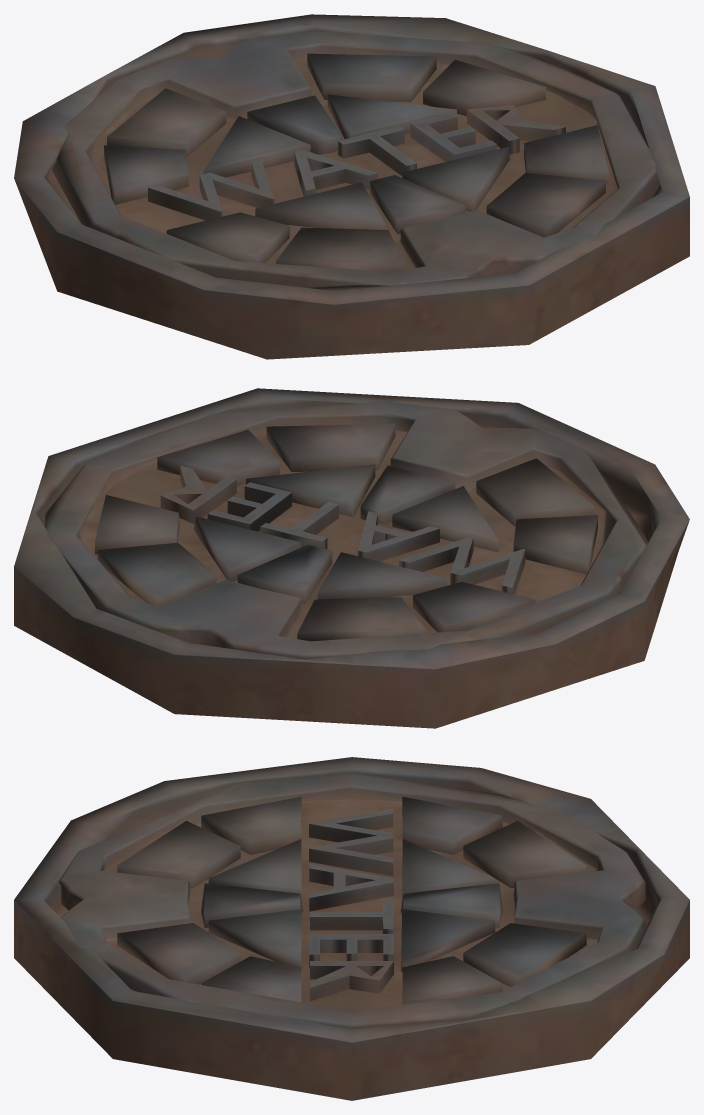
File: scene-manhole.glb
3 views of the same model, one above another, from view 1: azimuth 30°, elevation 25°; view 2: azimuth 150°, elevation 25°; view 3: azimuth 270°, elevation 25° (orthographic). The views are drawn at different scales.
Visible parts, largest first — view 1: water_manhole_cover_frame; view 2: water_manhole_cover_frame; view 3: water_manhole_cover_frame.
Part boxes in pixels (x1,y1,x2,y2): water_manhole_cover_frame: (14, 14, 689, 359); water_manhole_cover_frame: (14, 388, 689, 728); water_manhole_cover_frame: (14, 757, 689, 1100).
Size of the model in its own units: 0.6908 by 0.0676 by 0.6908.
1 material, 1 textured.
